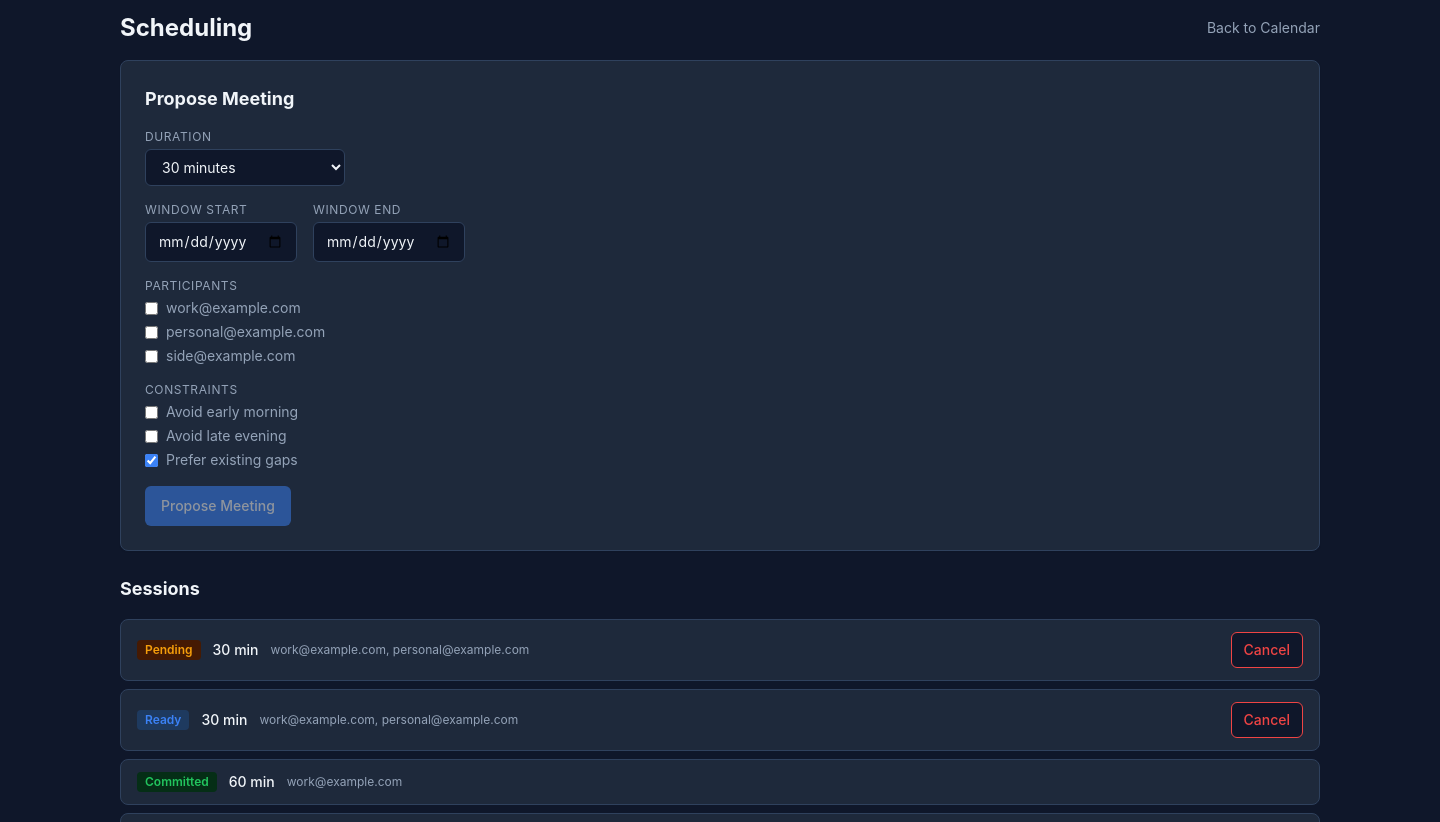
Test: Scheduling Page › integration: form submission creates session › shows error message when session creation fails
// Select a participant
Click the label with test id "participant-acc_1": (223, 308) [145,299,301,316]
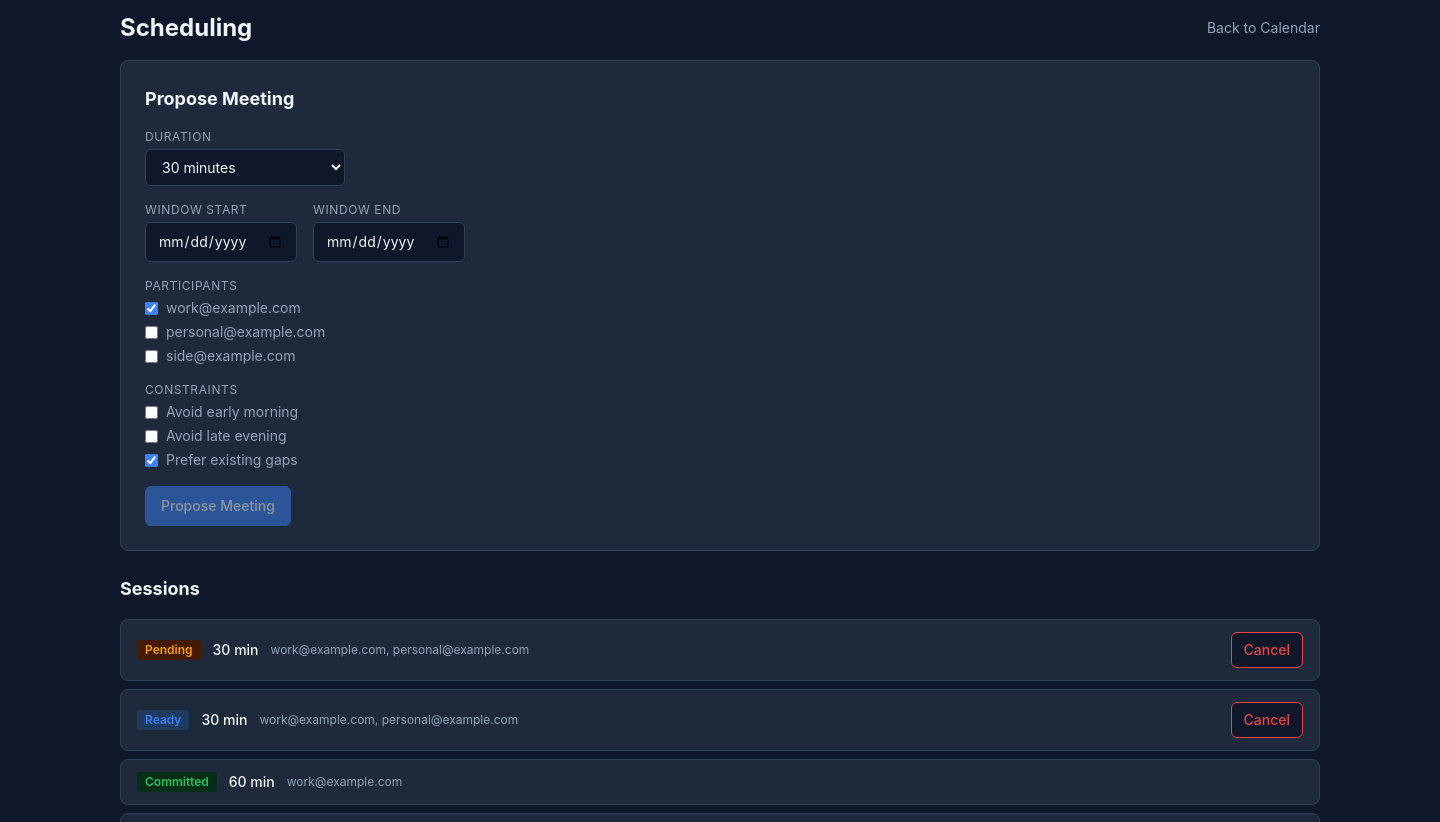
// Set window dates
In the date field with test id "window-start": (221, 242) [145,222,297,262], type "2026-02-20"
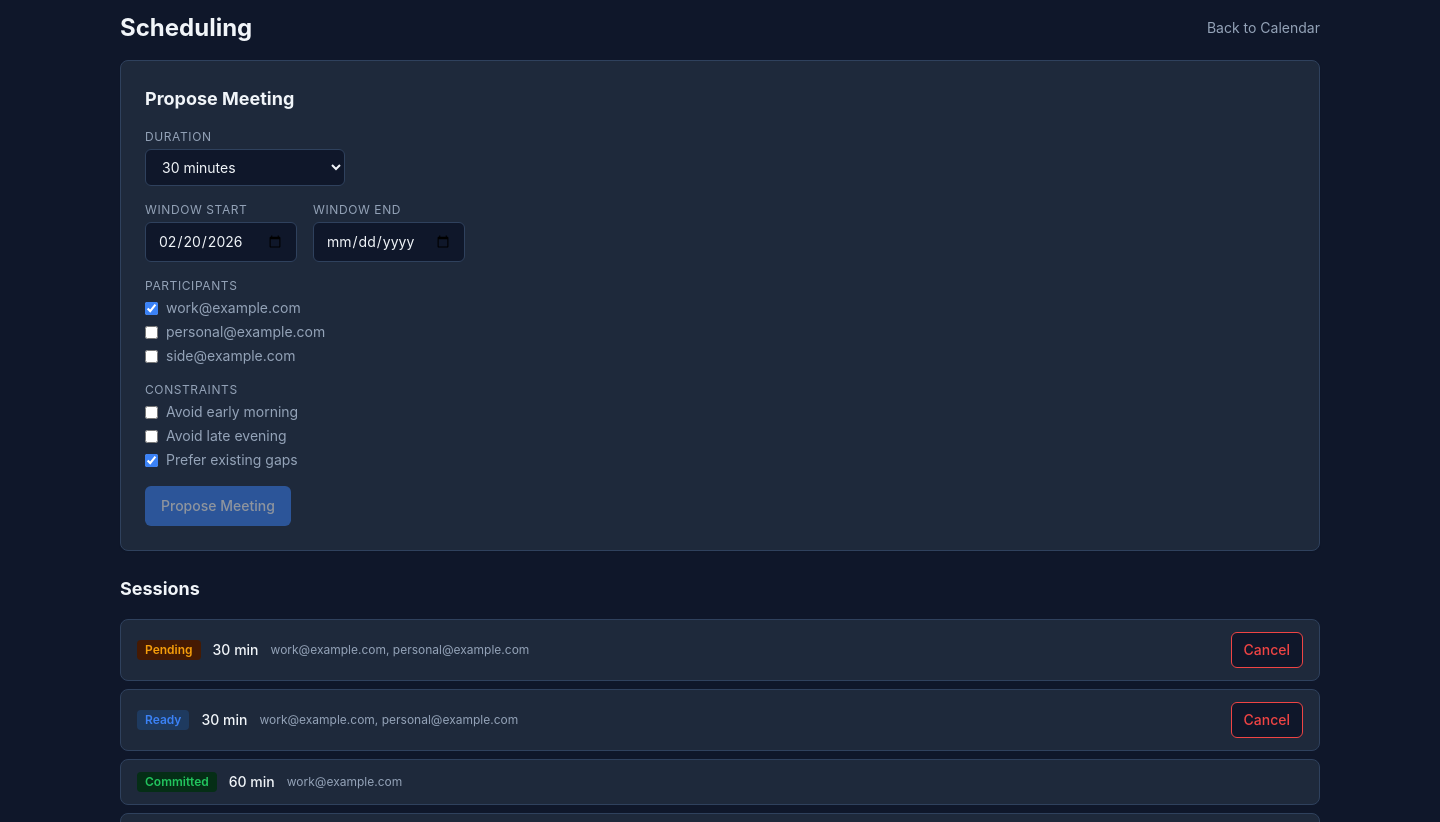
In the date field with test id "window-end": (389, 242) [313,222,465,262], type "2026-02-22"
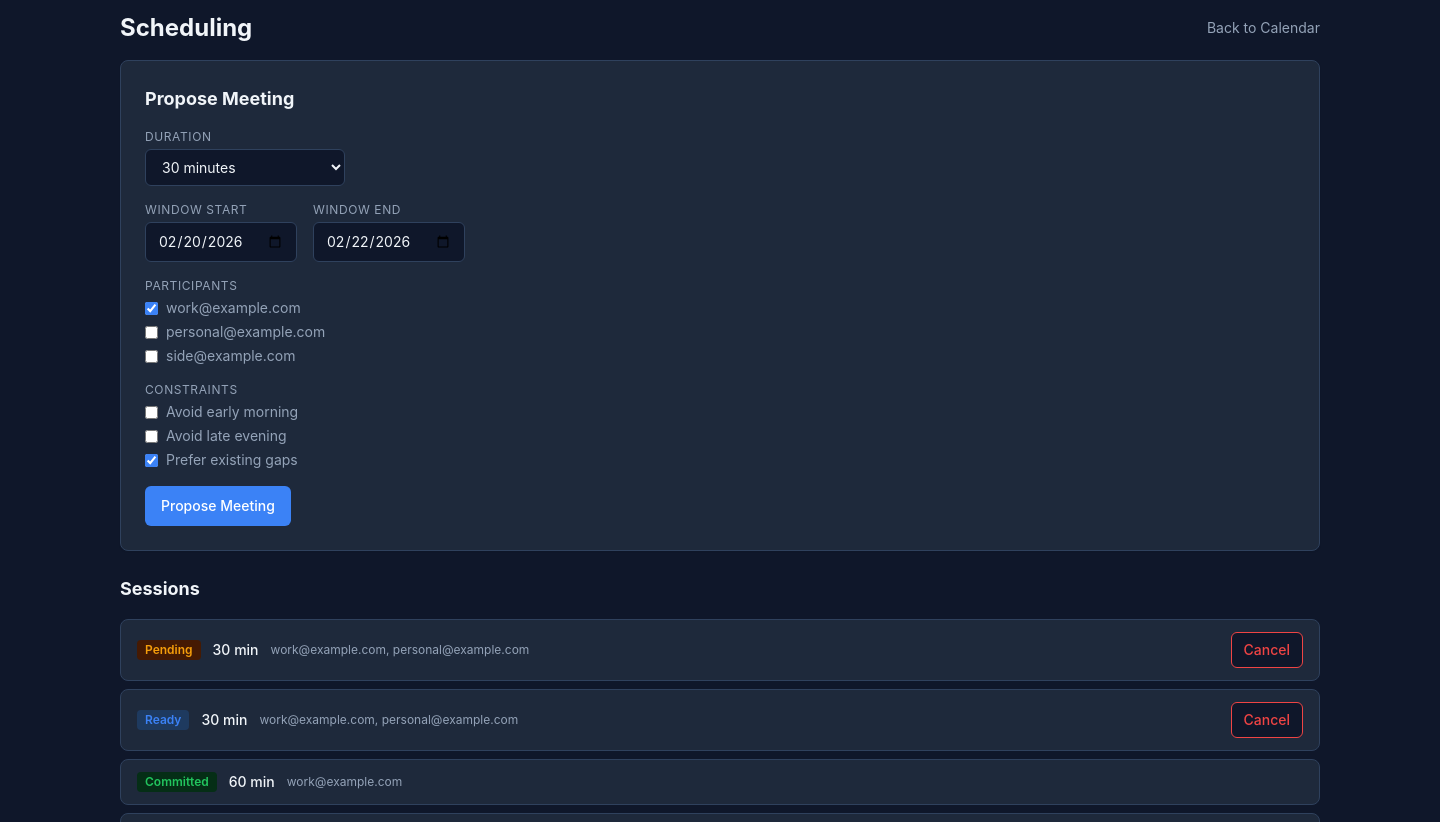
Click the button with test id "propose-meeting-btn": (218, 506) [145,486,291,526]
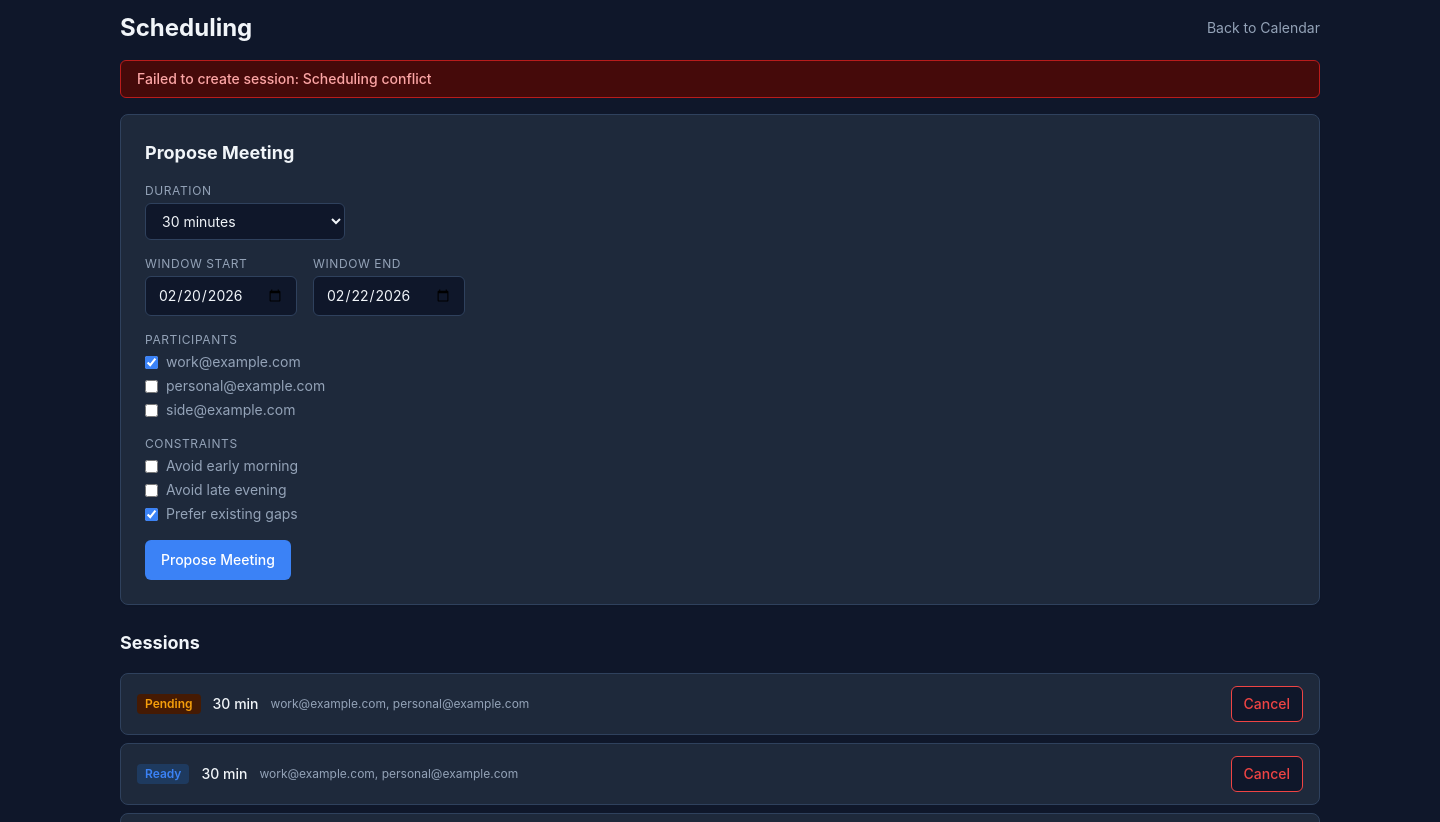
Expected: the text with test id "scheduling-status-msg" shows "Scheduling conflict", [137,70,432,87]
